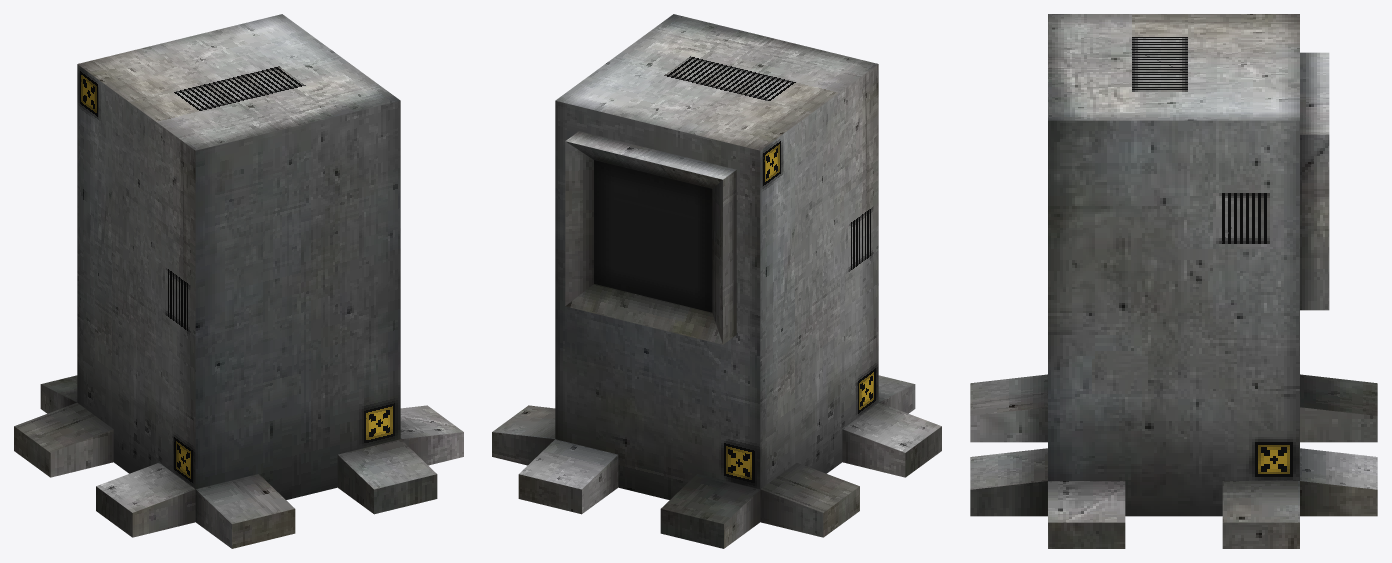
Rendered from fission_reactor.gltf.
3 renders of one model, left to right at view 1: azimuth 30°, elevation 25°; view 2: azimuth 150°, elevation 25°; view 3: azimuth 270°, elevation 25°, orthographic. The views are drawn at different scales.
Parts seen in each view (by area): view 1: mesh (×7); view 2: mesh (×8); view 3: mesh (×8).
Boxes of the visible parts, left/top/right/bottom form: mesh (×7): left=14, top=14, right=463, bottom=548; mesh (×8): left=492, top=14, right=941, bottom=548; mesh (×8): left=970, top=14, right=1377, bottom=548.
Bounding box in the file's own units: 5.25 × 5.62 × 5.25.
1 material, 1 textured.
